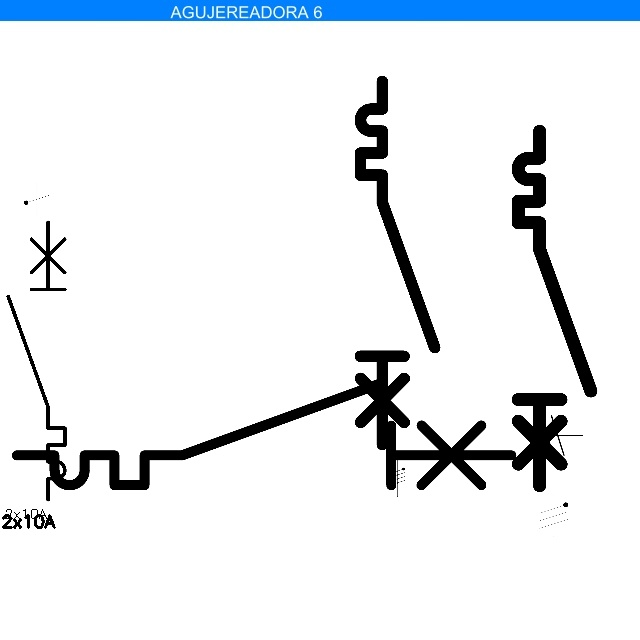interruptor_termomagnetico: (4, 371, 524, 498), (351, 72, 444, 454), (509, 122, 600, 495), (1, 215, 72, 507)
